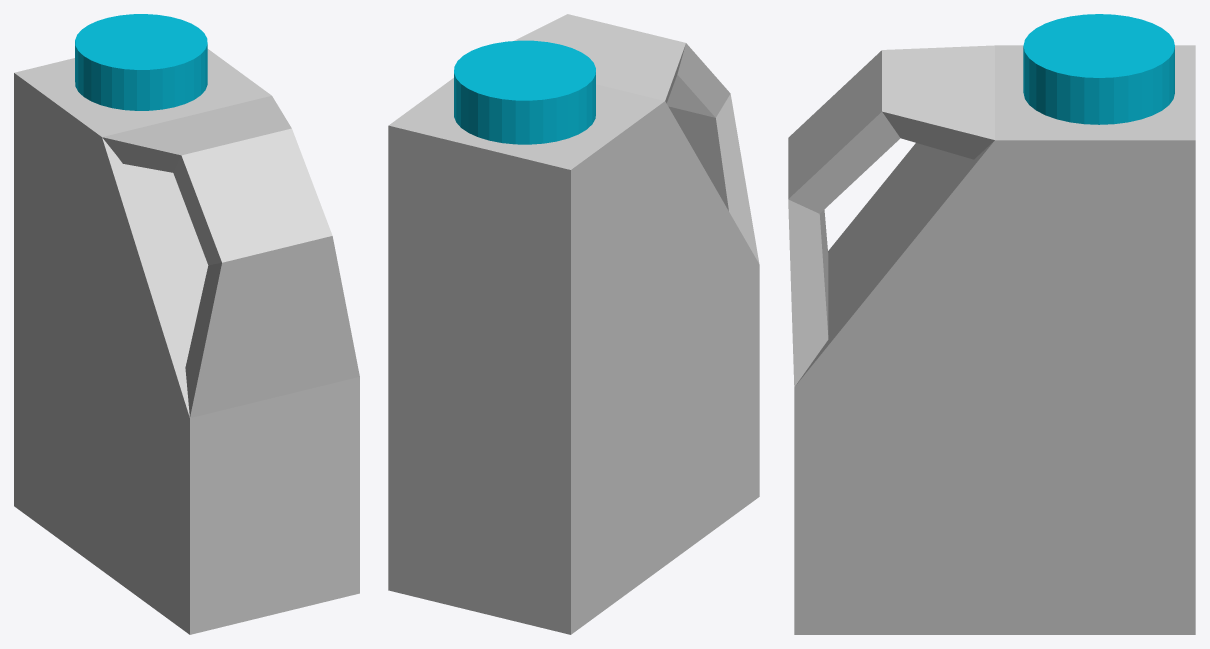
File: AcidJug 1.fbx
3 renders of one model, left to right at view 1: azimuth 30°, elevation 25°; view 2: azimuth 150°, elevation 25°; view 3: azimuth 270°, elevation 25°, orthographic. The views are drawn at different scales.
Parts seen in each view (by area): view 1: Cube, Cylinder; view 2: Cube, Cylinder; view 3: Cube, Cylinder.
Part boxes in pixels (box(x1,y1,x2,y2)): Cube: box(14, 49, 359, 634); Cylinder: box(75, 14, 207, 110); Cube: box(388, 14, 759, 634); Cylinder: box(454, 40, 595, 144); Cube: box(788, 45, 1195, 634); Cylinder: box(1023, 14, 1174, 124).
Size of the model in its own units: 82.1 by 219 by 149.
